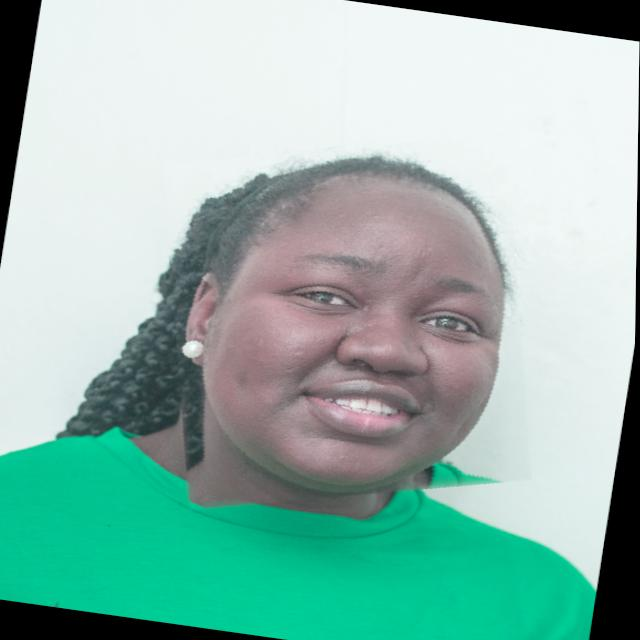happy: (133, 106, 566, 537)
